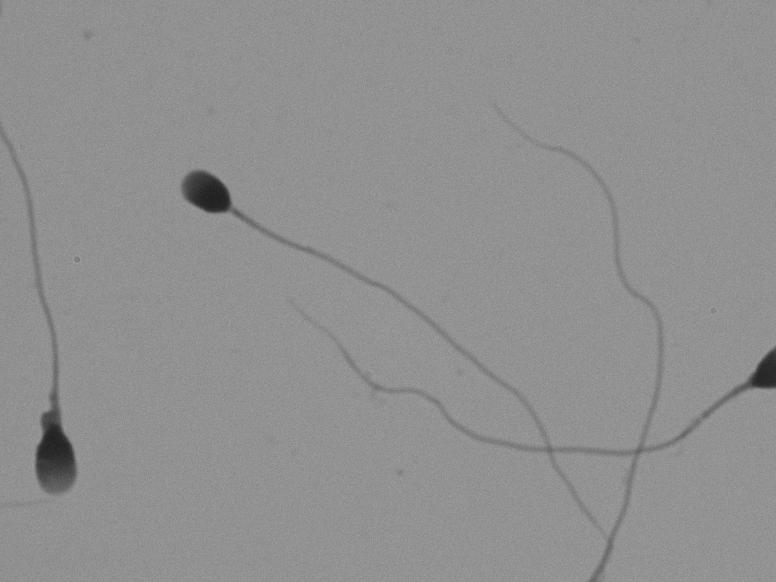Abnormal: (13, 175, 109, 536)
Normal: (126, 127, 574, 494)
